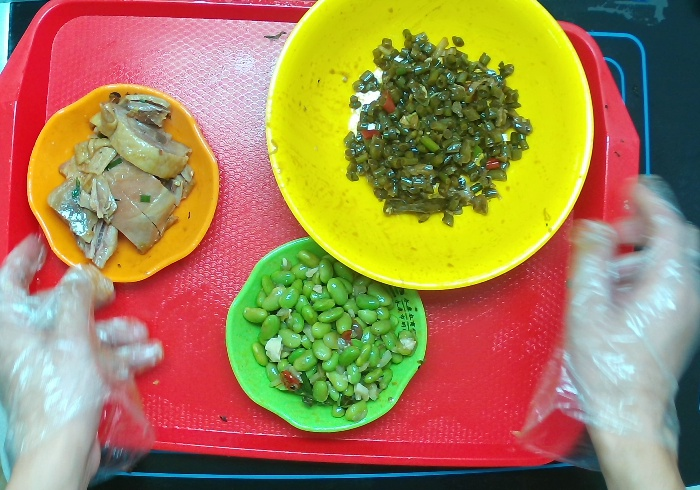YKMZ-Huang_Se_Tang_Wan: (265, 1, 593, 294)
YKMZ-Ju_Se_Ao_Bian_Wan: (24, 83, 218, 285)
YKMZ-Lv_Se_Ao_Bian_Wan: (222, 239, 430, 435)
